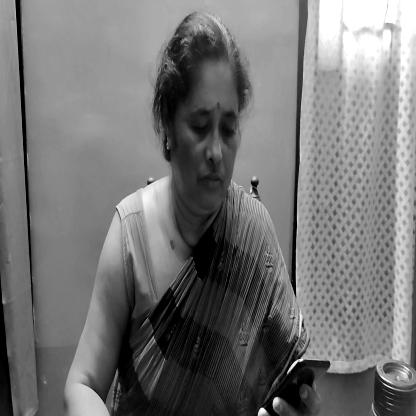Distracted: (154, 22, 250, 223)
